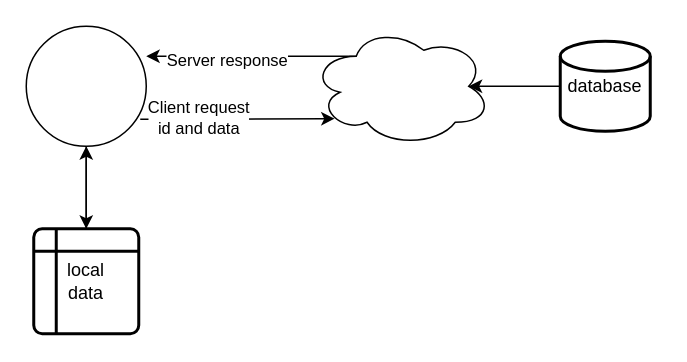
Image size: 687x362. Some labels were removed from this diagram. The shapes that lost their labels are listed below. From the top down, each one's centre as x and y in pixels, then its label:
At pixel 85 85: "client".
At pixel 400 85: "server".
